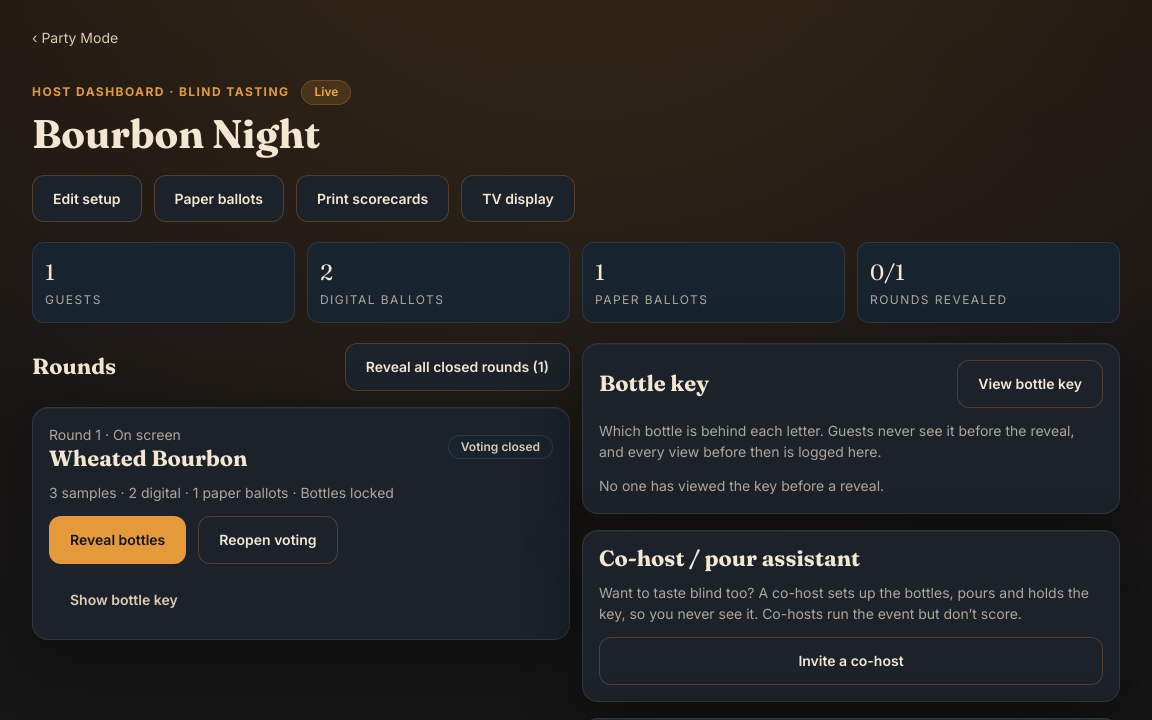
HostDashboardPage › never loads the bottle key until an admin confirms, then shows it in the round
Click the button "Show bottle key" at [124, 600], box [49, 576, 199, 623]
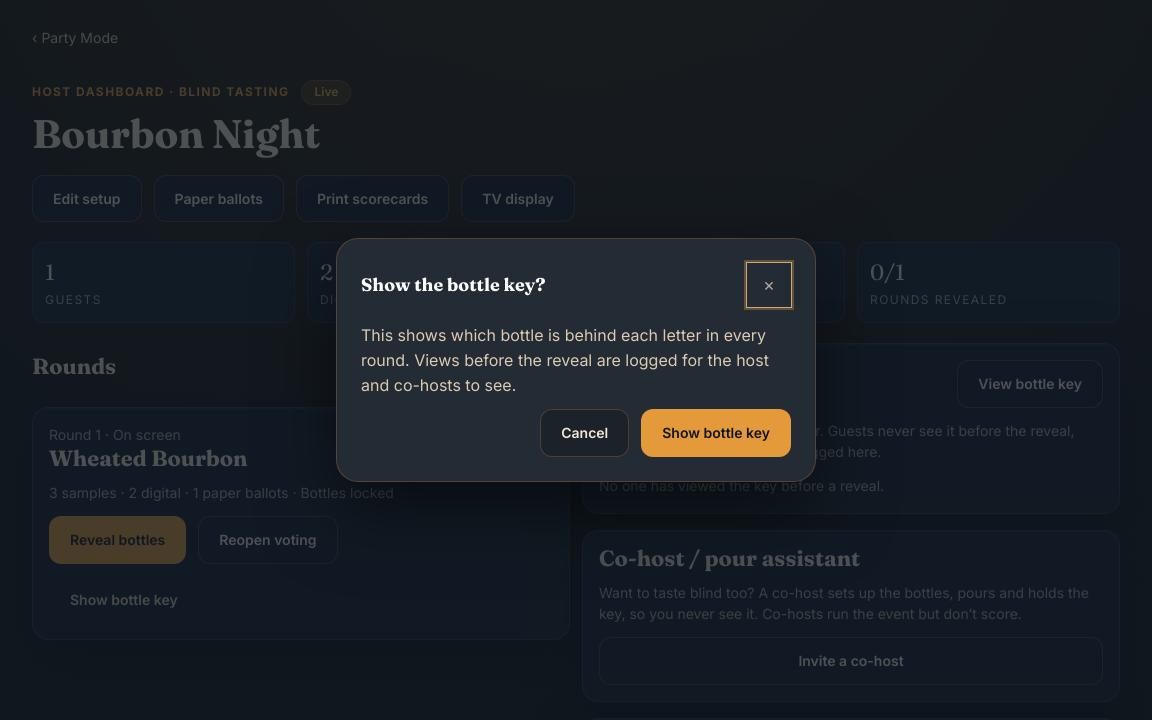
Check: the heading "Show the bottle key?" is shown, box [361, 276, 546, 294]
Click the button "Show bottle key" at [716, 433], box [641, 409, 791, 457]
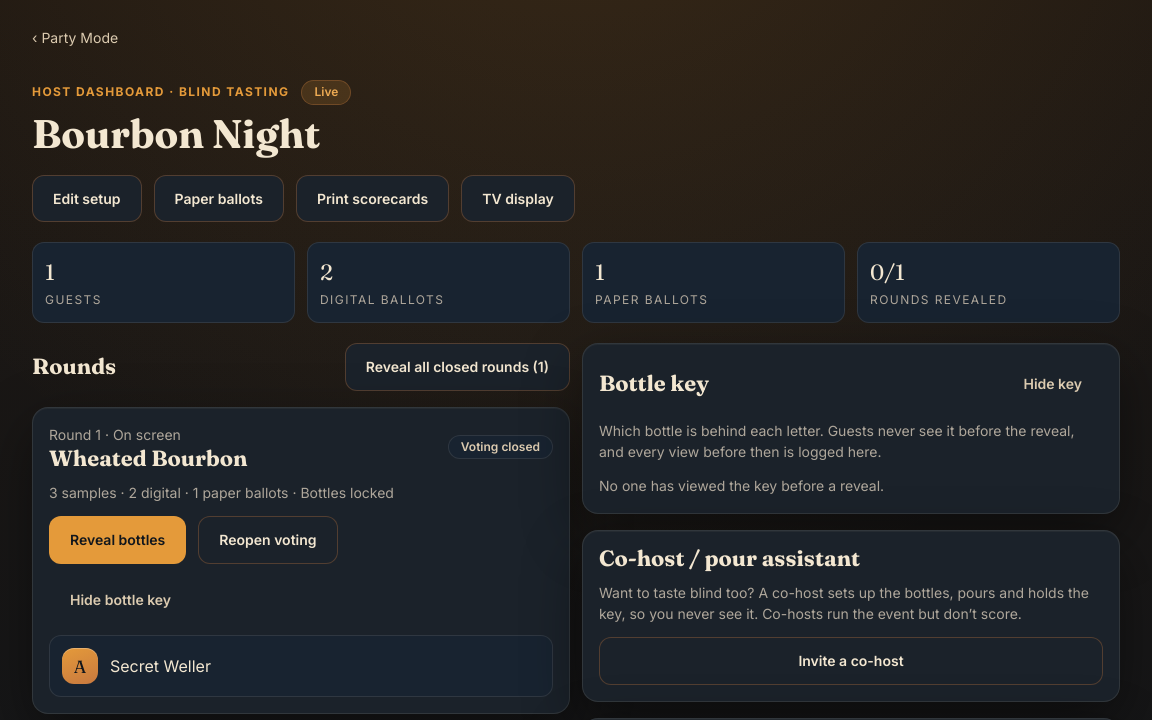
Check: the text "Secret Weller" is shown, box [109, 655, 211, 676]
Note: Hiding drops it from memory: showing again asks again.
Click the button "Hide key" at [1053, 384], box [1002, 360, 1103, 408]
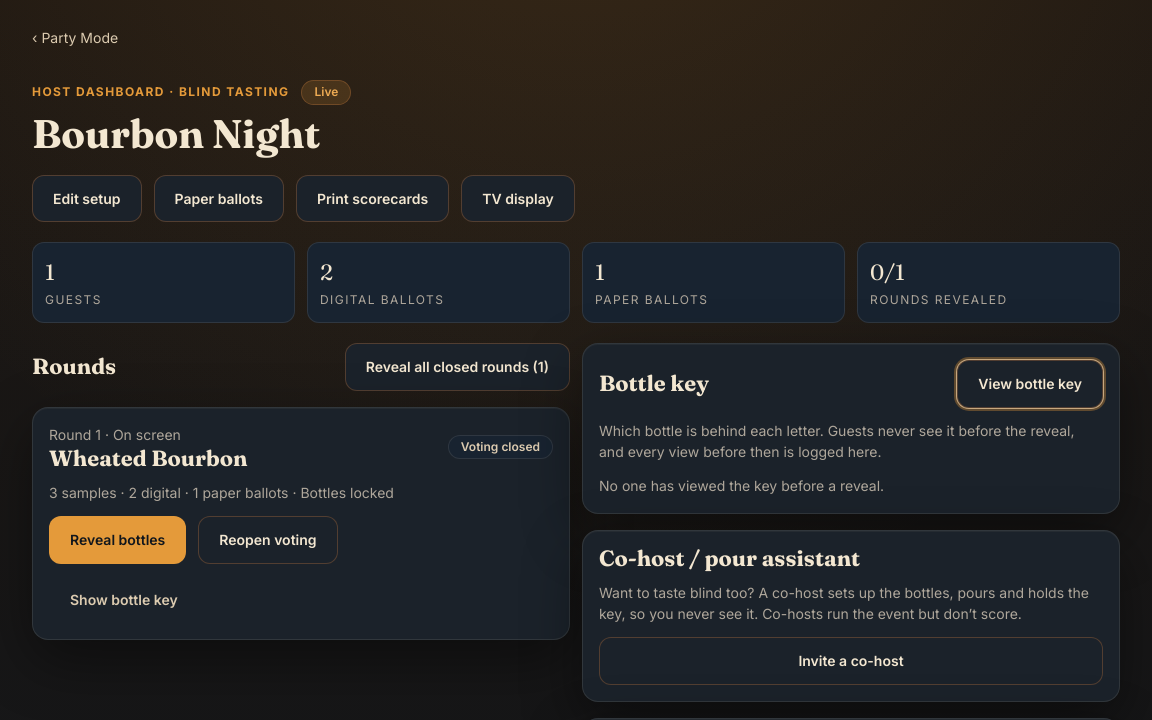
Check: the text "Secret Weller" is gone
Click the button "Show bottle key" at [124, 600], box [49, 576, 199, 623]
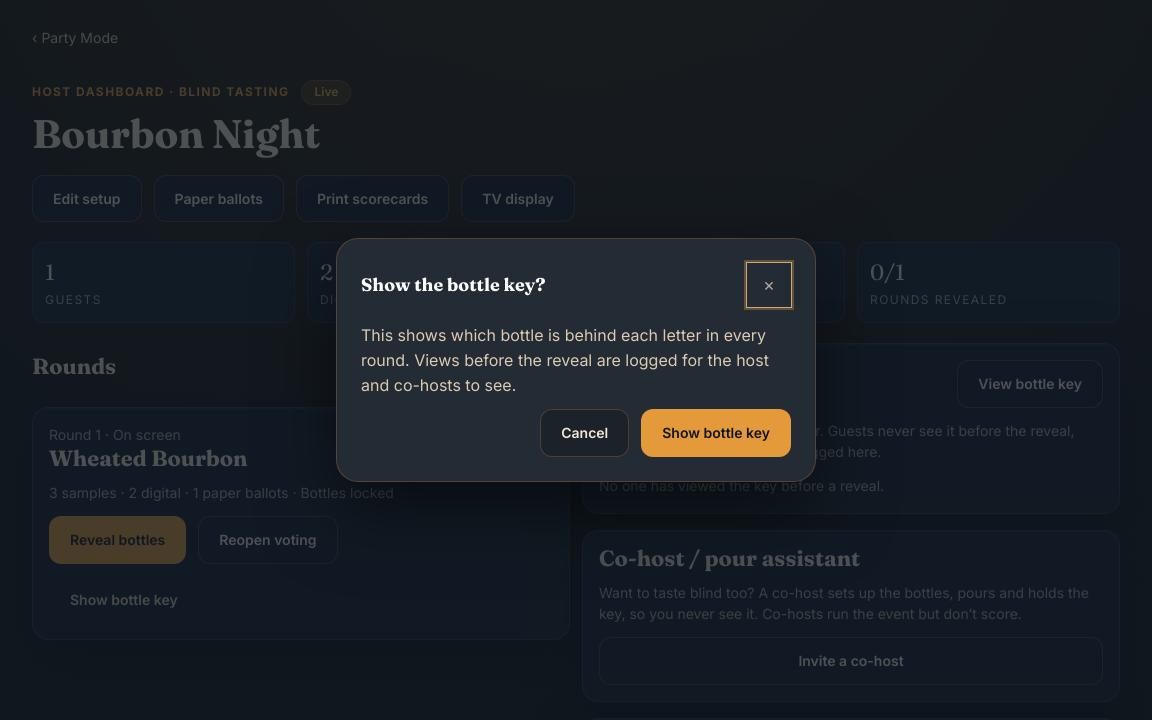
Check: the heading "Show the bottle key?" is shown, box [361, 276, 546, 294]
